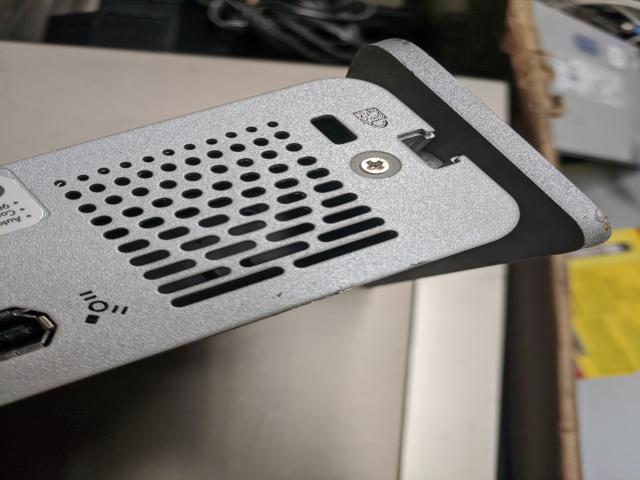CRS: (358, 157, 394, 173)
